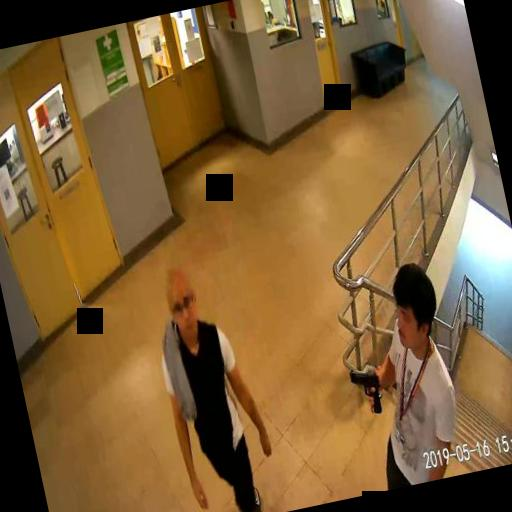Handgun: (346, 362, 384, 418)
